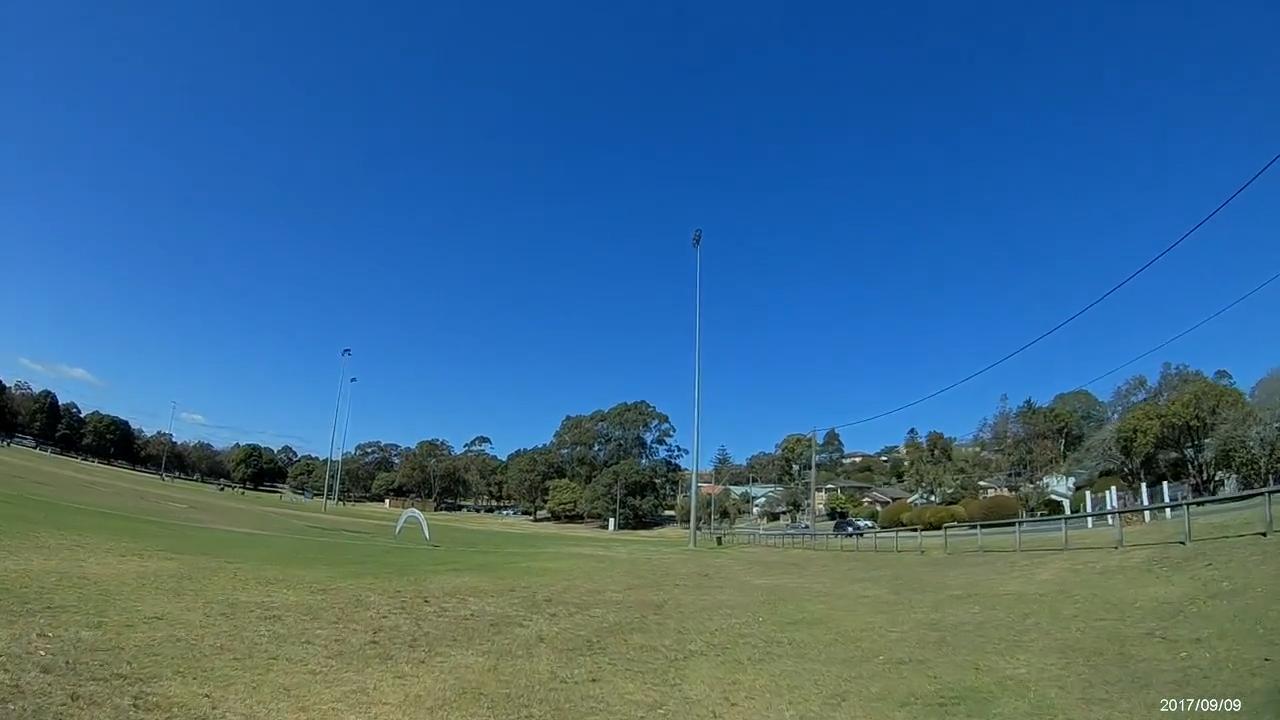gate: (396, 507, 428, 542)
